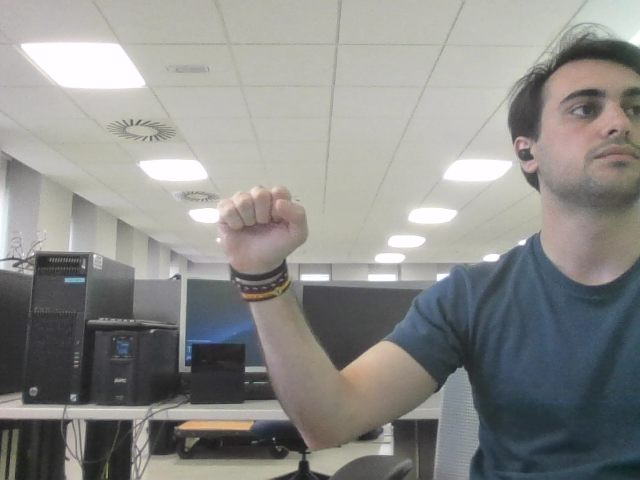Puño: (228, 194, 295, 253)
